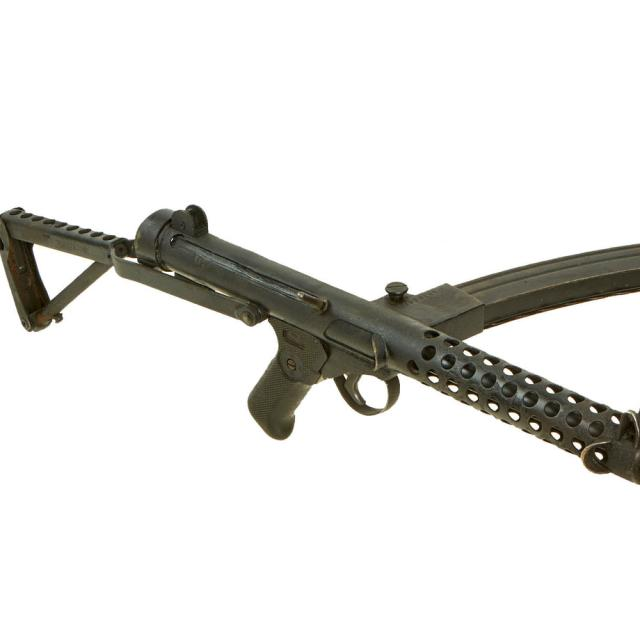Weapon: (0, 205, 640, 484)
